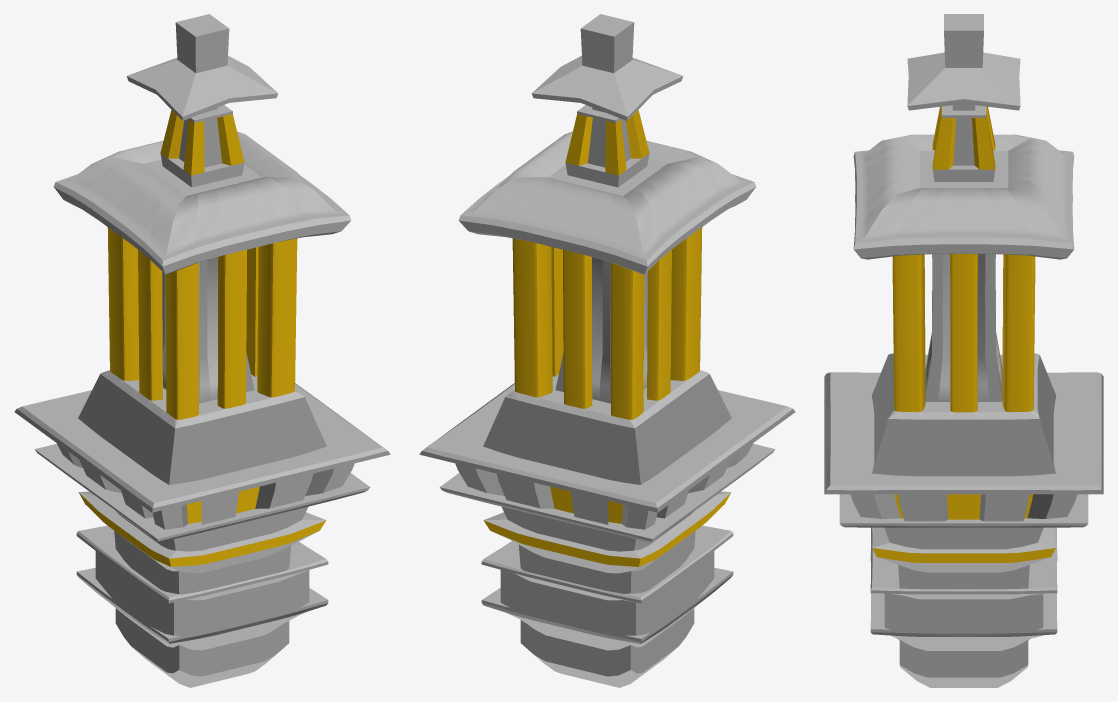
Rendered from engReactor.fbx.
3 renders of one model, left to right at view 1: azimuth 30°, elevation 25°; view 2: azimuth 150°, elevation 25°; view 3: azimuth 270°, elevation 25°, orthographic.
Parts seen in each view (by area): view 1: Reactor; view 2: Reactor; view 3: Reactor.
Boxes of the visible parts, bbox=[...] form: Reactor: bbox=[14, 14, 390, 687]; Reactor: bbox=[419, 14, 795, 687]; Reactor: bbox=[824, 14, 1103, 687].
Size of the model in its own units: 57.36 by 148 by 57.36.
